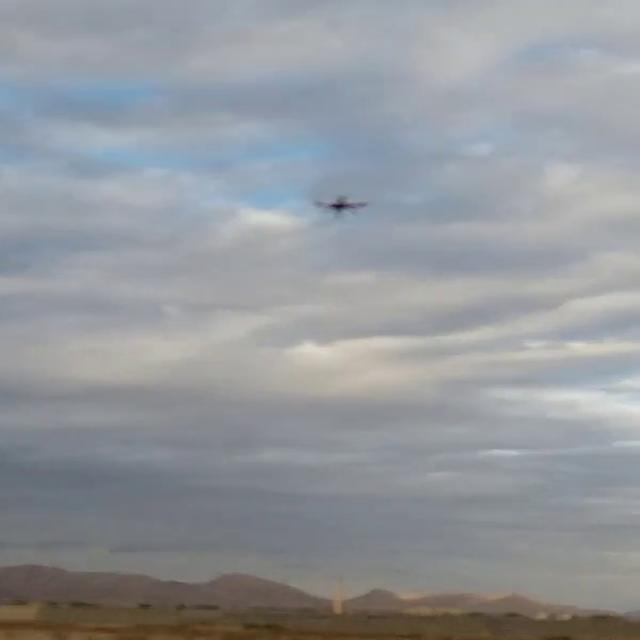drone: (312, 189, 371, 221)
